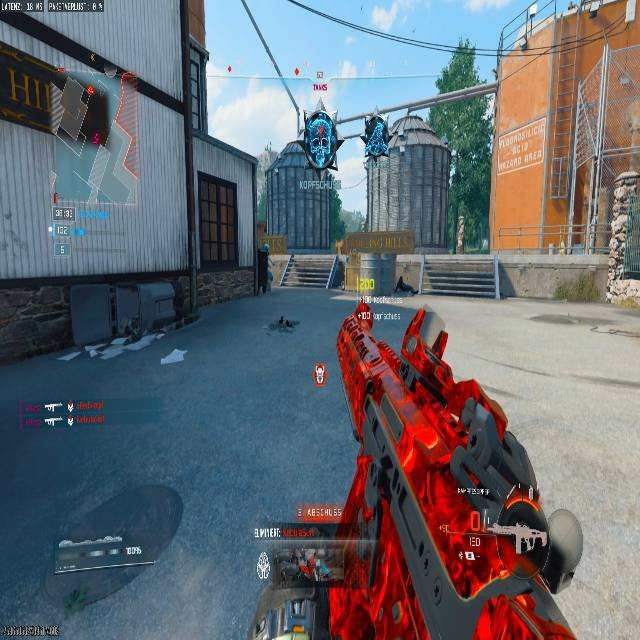player: (278, 271, 288, 287)
